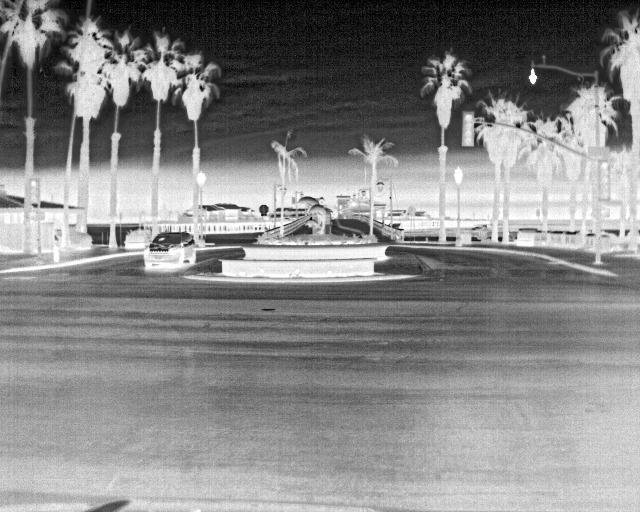car: (142, 229, 196, 267)
